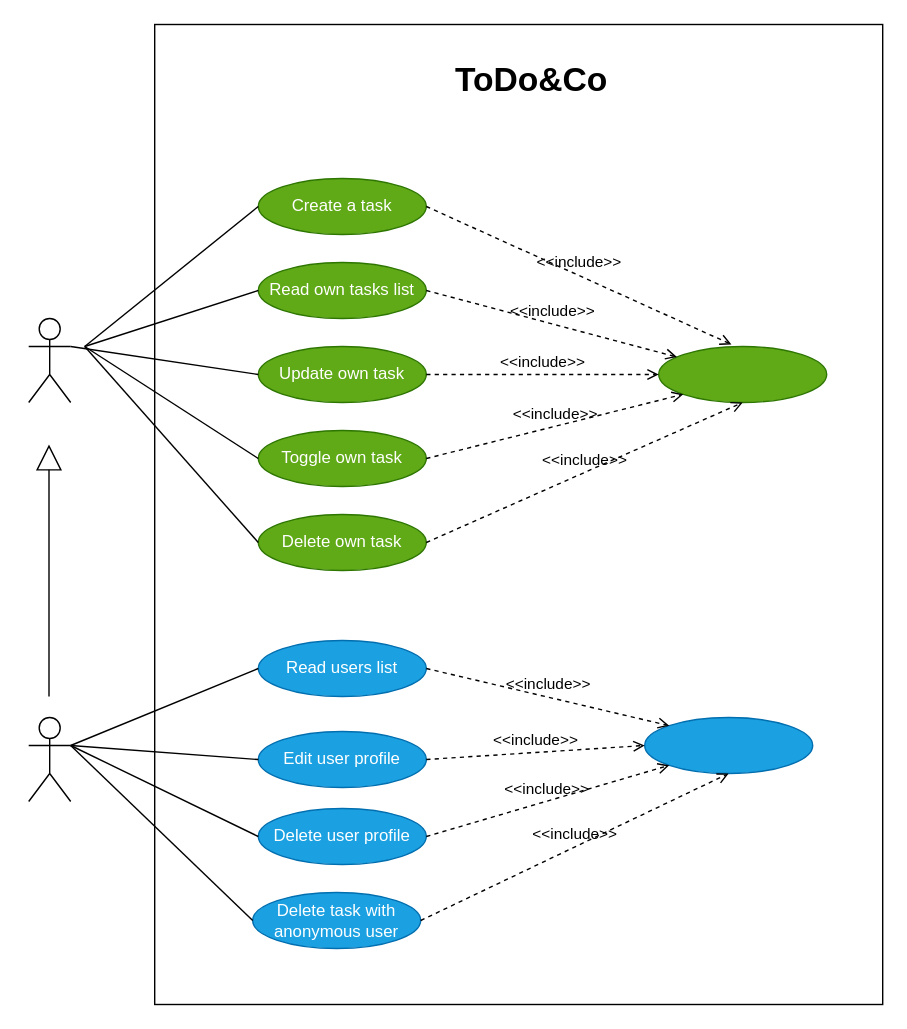
Some shapes in this 907 by 1029 pixel diagram are drawn without their labels. Each missing label, with the centre of its shape:
"Admin" belongs at point (49, 759).
"Login as ADMIN" belongs at point (728, 745).
"Login as USER" belongs at point (742, 373).
"User" belongs at point (49, 359).
